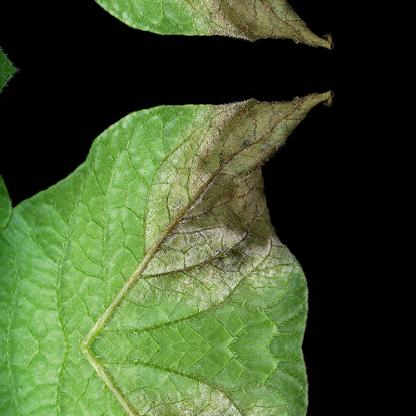Early-Blight: (141, 86, 351, 288), (141, 0, 351, 52)
